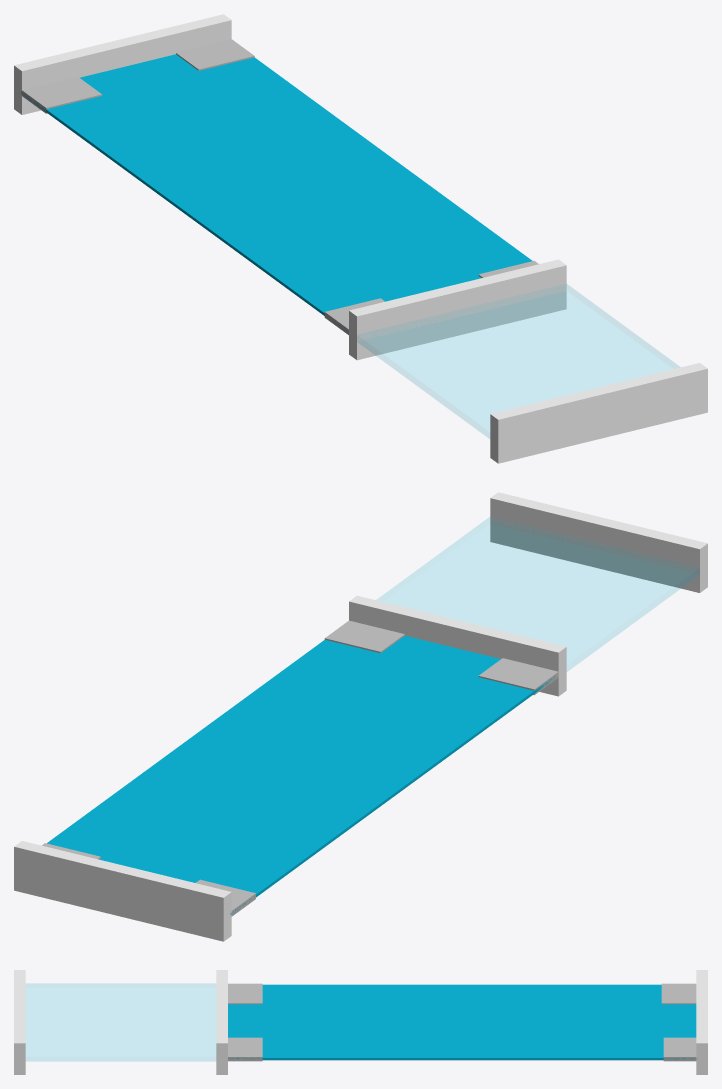
3 views of the same model, one above another, from view 1: azimuth 30°, elevation 25°; view 2: azimuth 150°, elevation 25°; view 3: azimuth 270°, elevation 25° (orthographic). The views are drawn at different scales.
Visible parts, largest first — view 1: 0_3_1_1_2_1_2_0_3_2; view 2: 0_3_1_1_2_1_2_0_3_2; view 3: 0_3_1_1_2_1_2_0_3_2.
Boxes of the visible parts, x1,y1,x2,y2 form: 0_3_1_1_2_1_2_0_3_2: (14,14,707,463); 0_3_1_1_2_1_2_0_3_2: (14,492,707,941); 0_3_1_1_2_1_2_0_3_2: (14,970,707,1074).
Size of the model in its own units: 0.75 by 0.15 by 3.
